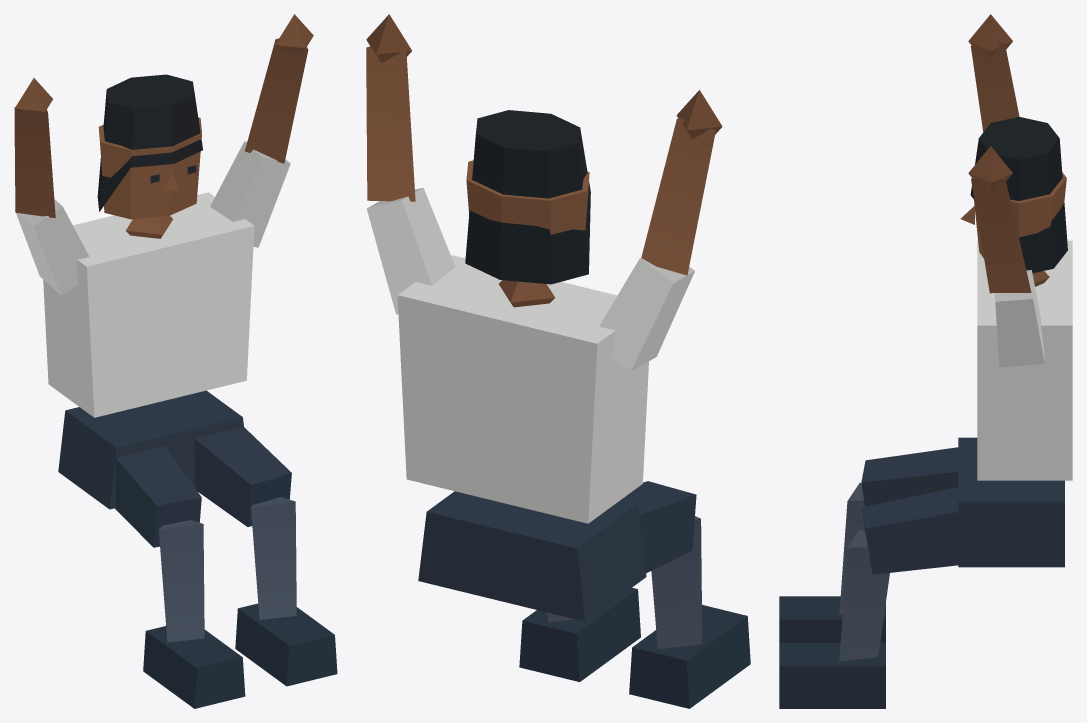
File: fan-02.glb
3 renders of one model, left to right at view 1: azimuth 30°, elevation 25°; view 2: azimuth 150°, elevation 25°; view 3: azimuth 270°, elevation 25°, orthographic. The views are drawn at different scales.
Parts seen in each view (by area): view 1: fan-02; view 2: fan-02; view 3: fan-02.
Part boxes in pixels (x1=…): fan-02: x1=14, y1=14, x2=337, y2=708; fan-02: x1=366, y1=14, x2=750, y2=708; fan-02: x1=779, y1=14, x2=1072, y2=708.
Bounding box in the file's own units: 0.942 × 1.72 × 0.77.
